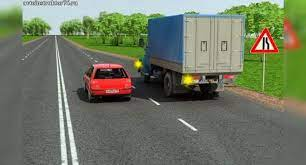1.18.2: (248, 28, 279, 53)
